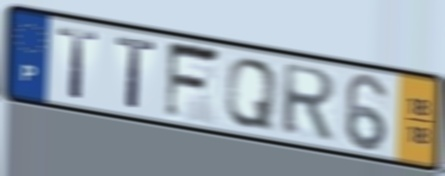6: (343, 70, 391, 155)
F: (163, 39, 225, 123)
Q: (222, 56, 280, 133)
R: (280, 61, 340, 143)
T: (113, 33, 159, 112), (56, 25, 102, 103)
